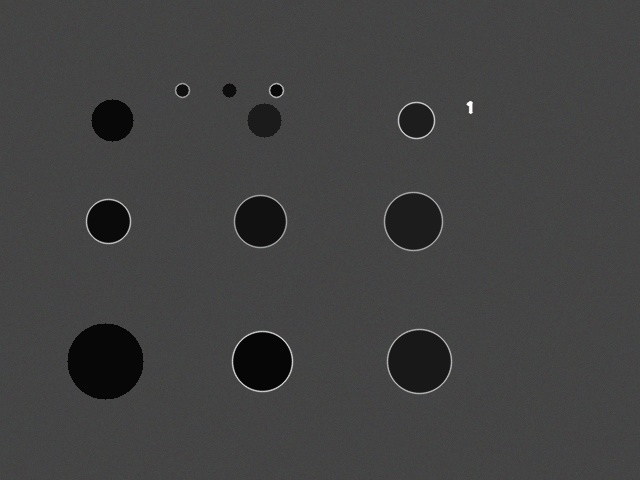hole: (67, 323, 143, 399), (387, 329, 451, 393), (232, 331, 292, 391), (384, 192, 442, 250), (234, 195, 286, 247), (86, 199, 130, 243), (91, 99, 133, 141), (398, 102, 434, 138), (247, 103, 281, 137), (175, 83, 189, 97), (222, 83, 236, 97), (269, 83, 283, 97)
